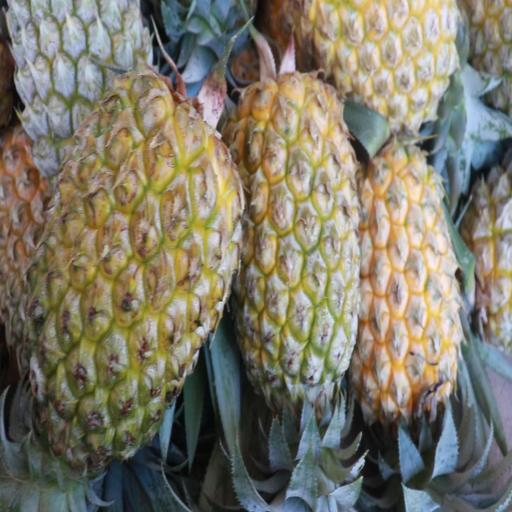Pineapple - v8 v1: (28, 100, 235, 460), (235, 88, 359, 400), (354, 145, 461, 415), (289, 0, 454, 124)
